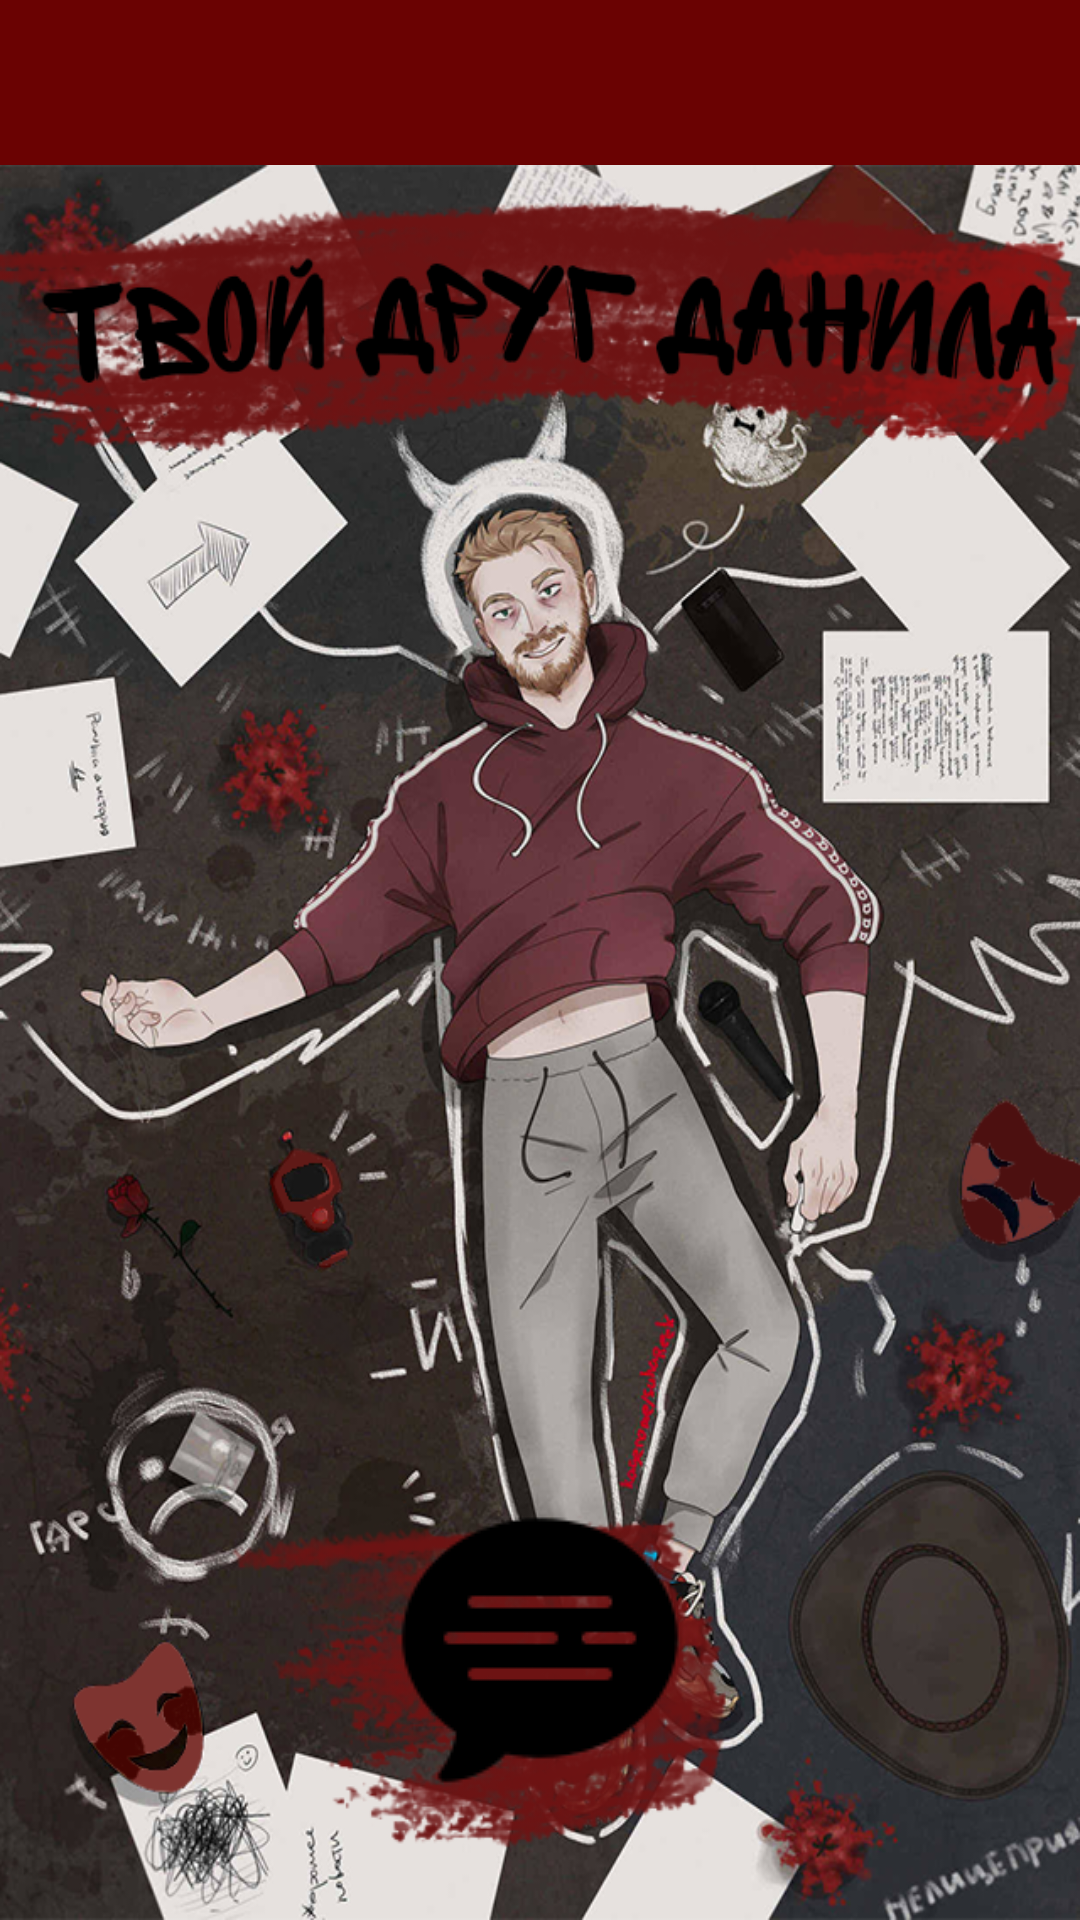

Screen size 1080*1920. Icon name, then its center in pixels as (x=x, y=y):
iconschatmessage: (x=540, y=1650)
